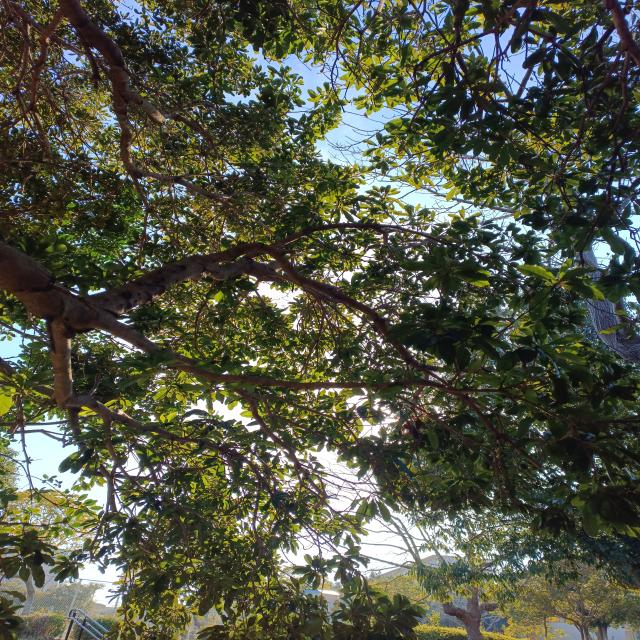Branch: (0, 244, 219, 335), (46, 322, 120, 422), (98, 320, 199, 366)
Twig: (206, 243, 458, 398), (209, 223, 521, 341), (173, 365, 579, 435), (118, 416, 300, 523), (220, 383, 328, 509), (247, 391, 376, 461), (69, 407, 113, 559), (103, 423, 158, 500)
